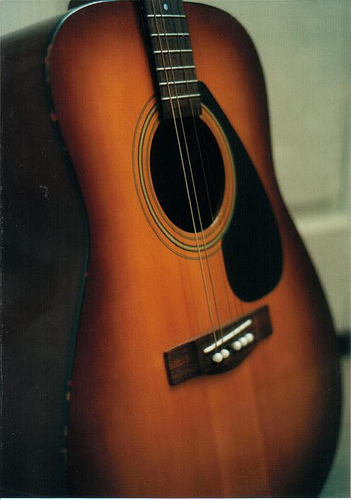guitar: (1, 1, 345, 500)
